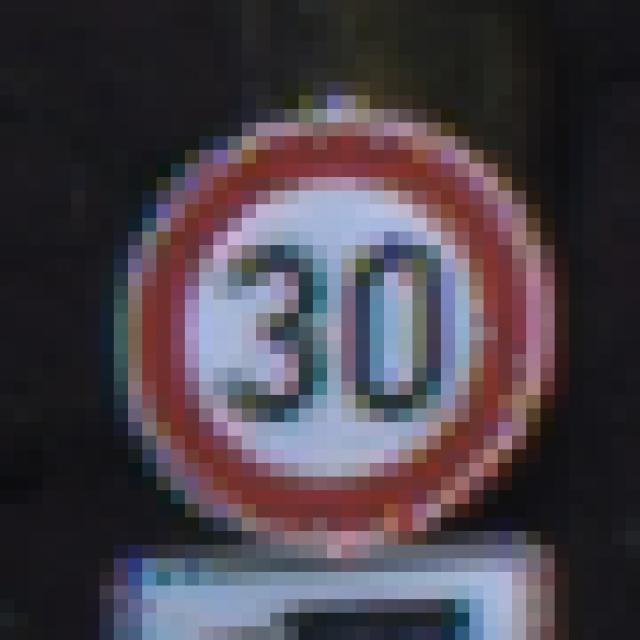Speed Limit -30-: (64, 75, 562, 565)
